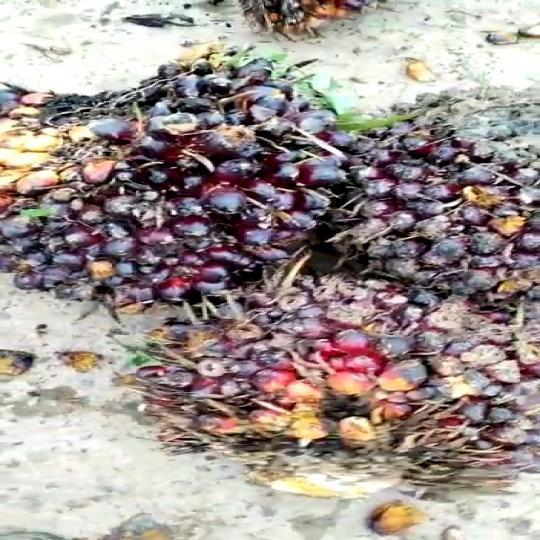kurang masak: (0, 59, 357, 331), (187, 269, 535, 522), (330, 80, 540, 311)
